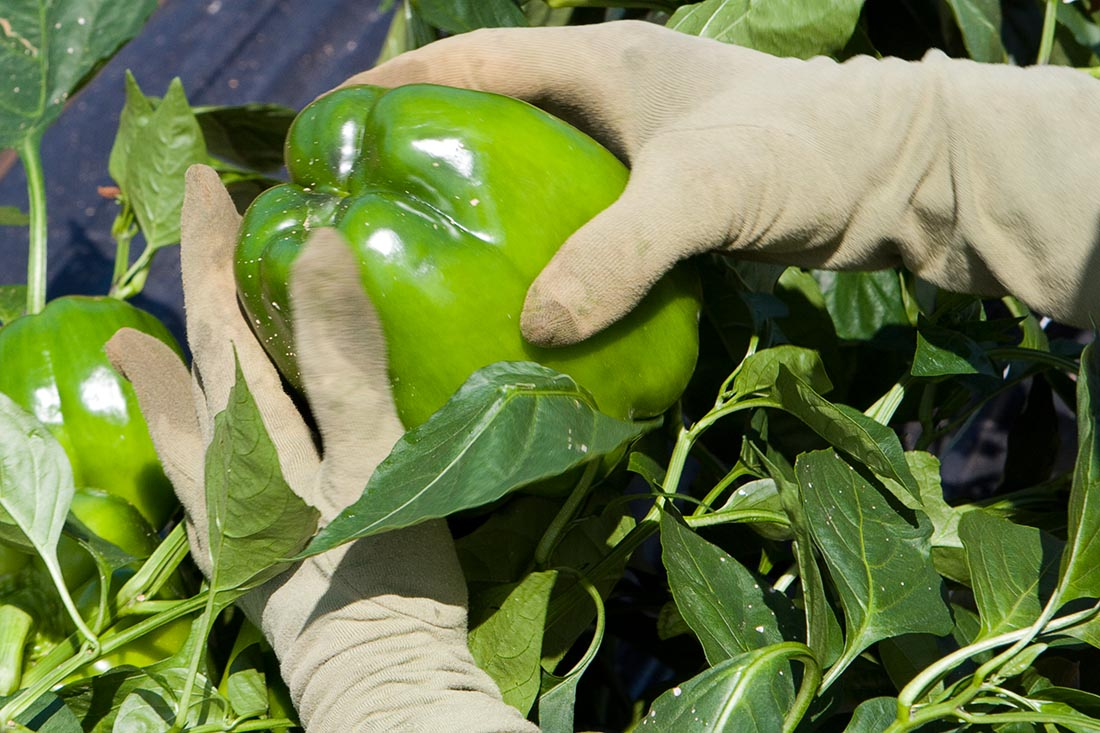capsicum: (232, 84, 700, 428), (0, 293, 188, 542)
